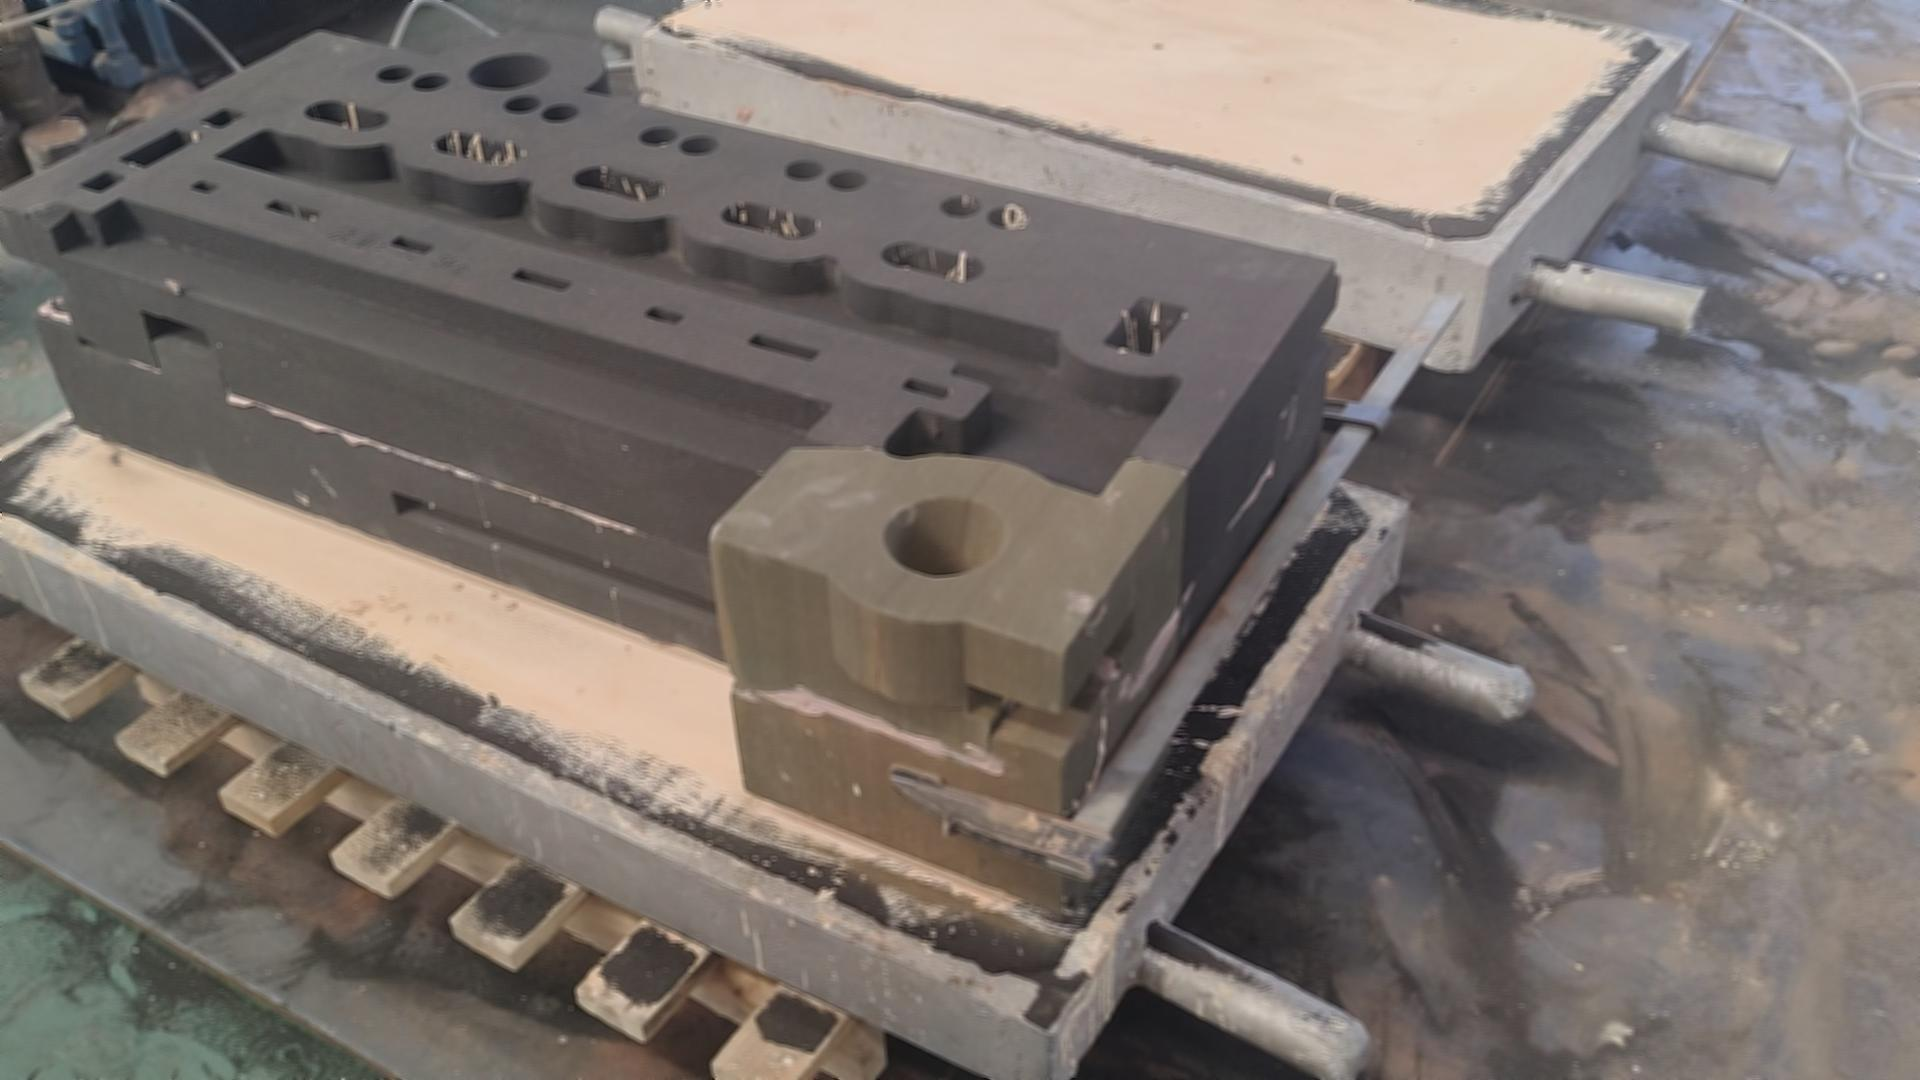pouring hole: (882, 496, 1006, 578), (468, 51, 551, 88)
